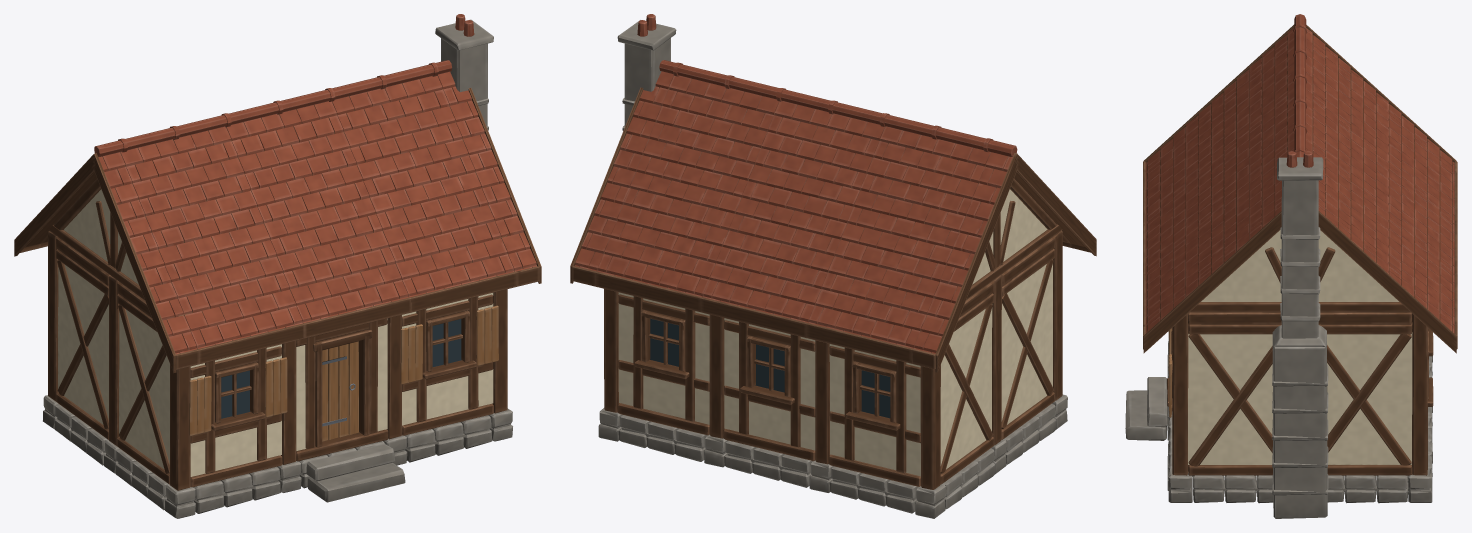
File: house_cottage_godot.glb
3 views of the same model, side by side, from view 1: azimuth 30°, elevation 25°; view 2: azimuth 150°, elevation 25°; view 3: azimuth 270°, elevation 25° (orthographic).
Parts seen in each view (by area): view 1: house_cottage_static; view 2: house_cottage_static; view 3: house_cottage_static.
Boxes of the visible parts, x1=… form: house_cottage_static: x1=14, y1=14, x2=541, y2=518; house_cottage_static: x1=570, y1=14, x2=1096, y2=518; house_cottage_static: x1=1125, y1=14, x2=1457, y2=518.
Size of what is drawn, in the model's own units: 7.37 by 6.62 by 5.54.
7 materials, 7 textured.
